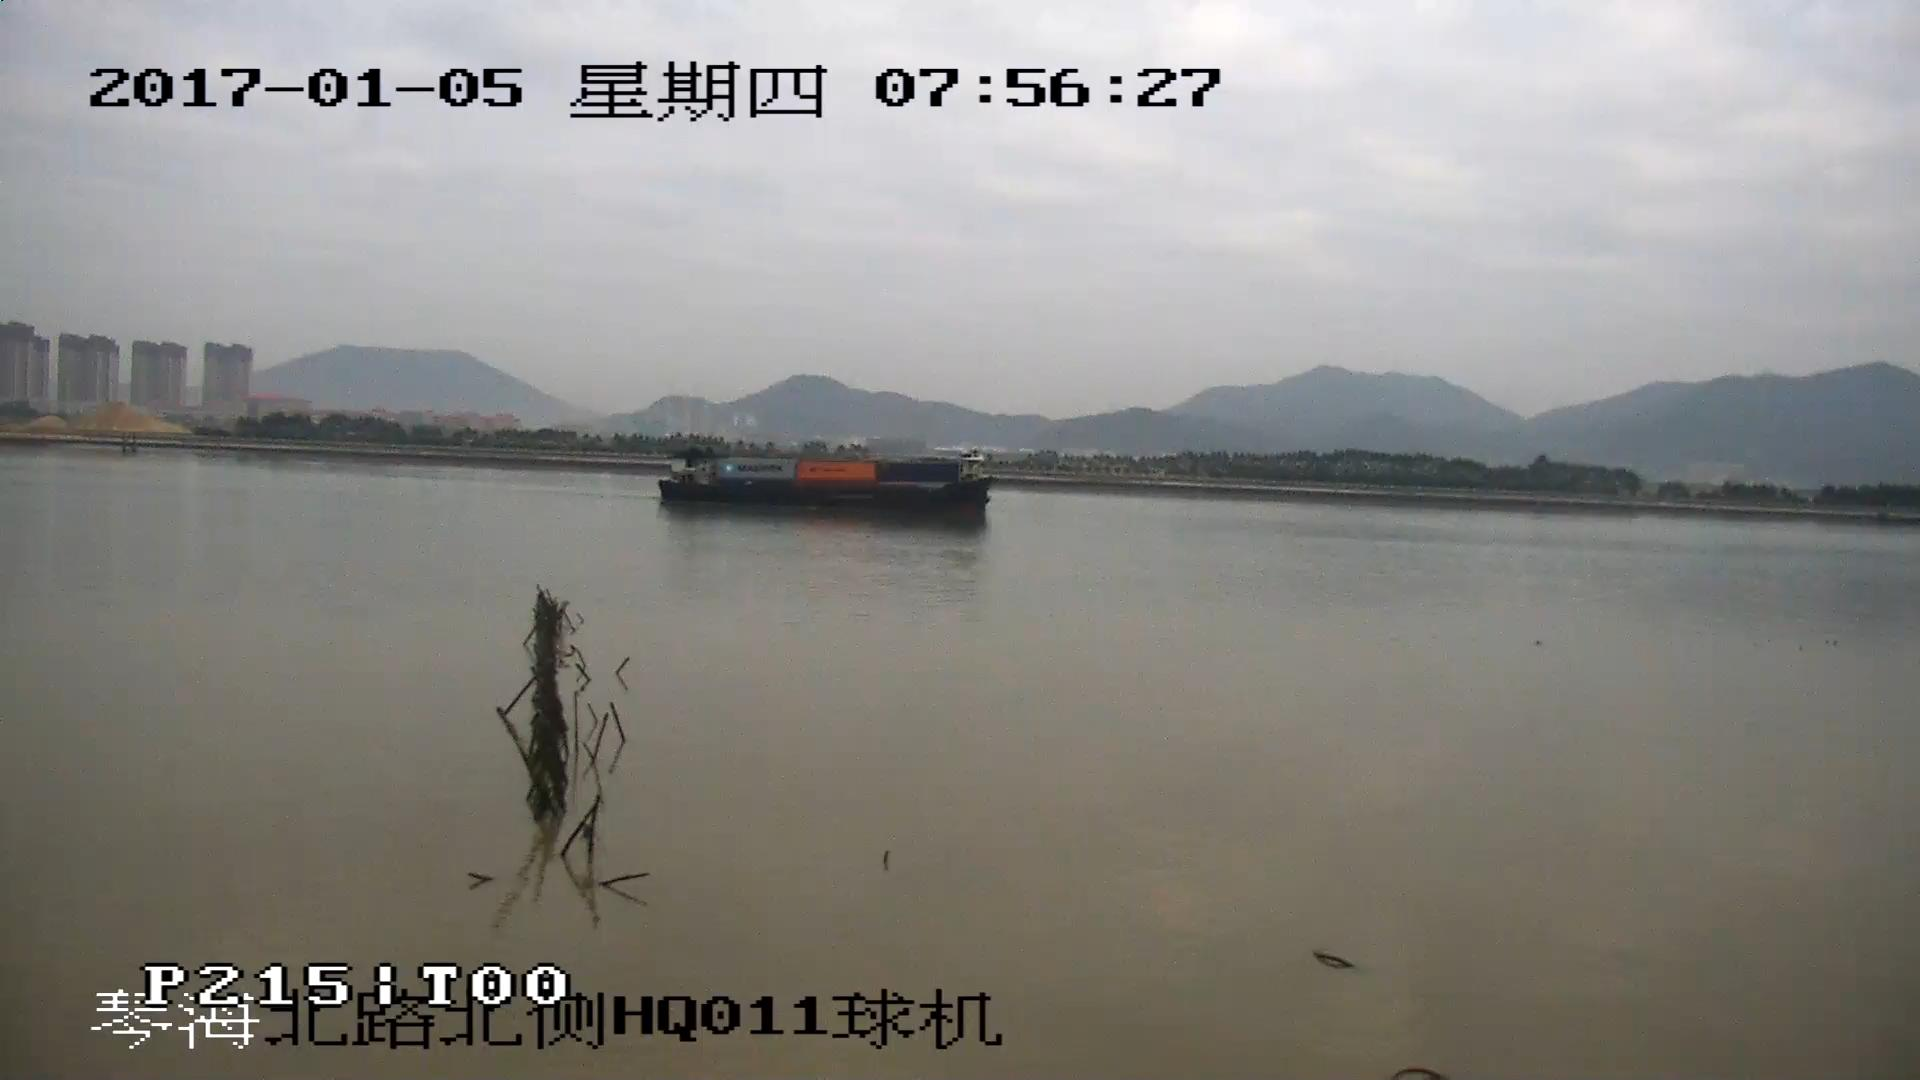container ship: (662, 452, 991, 519)
